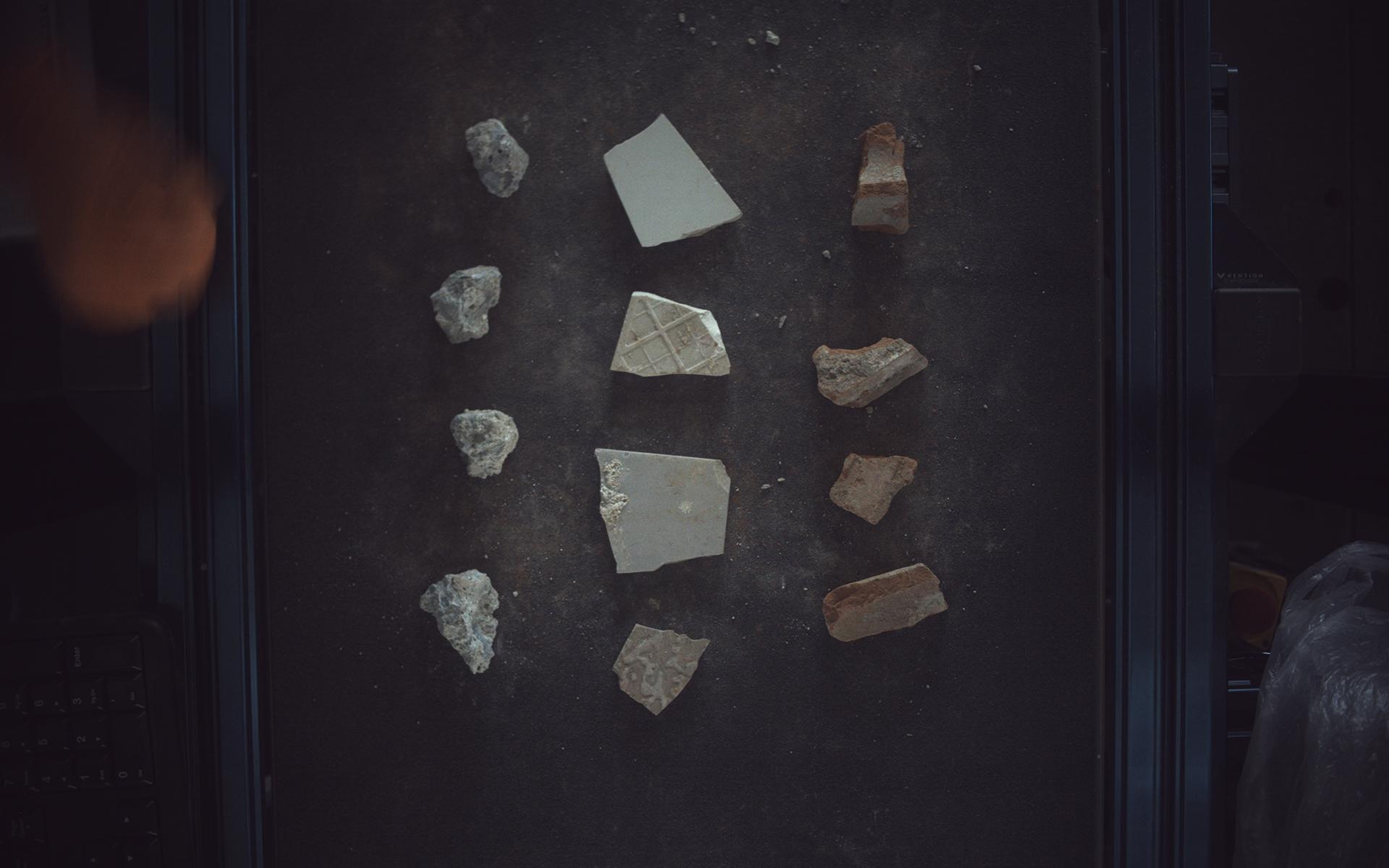brick: (824, 563, 949, 642), (814, 337, 930, 408), (853, 122, 911, 234), (831, 454, 919, 525)
concrete: (420, 570, 499, 675), (430, 265, 501, 343), (467, 117, 530, 197), (451, 409, 519, 479)
tile: (605, 114, 743, 247), (596, 449, 731, 574), (611, 291, 731, 376), (613, 625, 710, 715)
